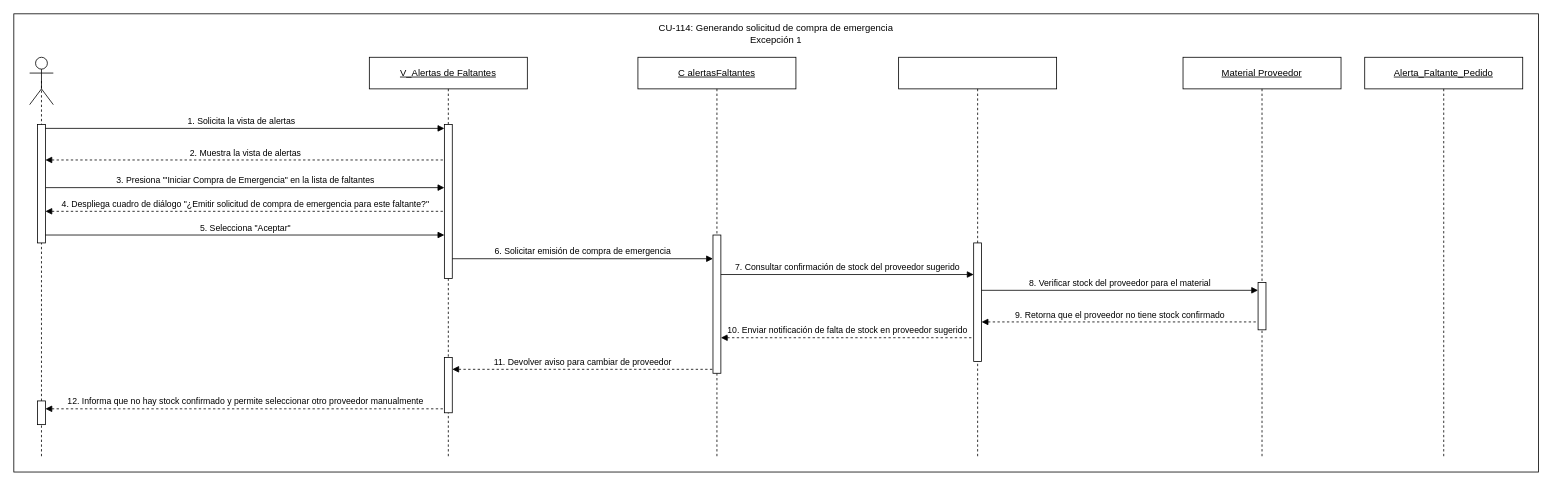
Some shapes in this 1552 by 486 pixel diagram are drawn without their labels. The centre of each missing label's shape, as x and y in pixels:
C Postgre: point (977, 256)
JOP: point (41, 80)
